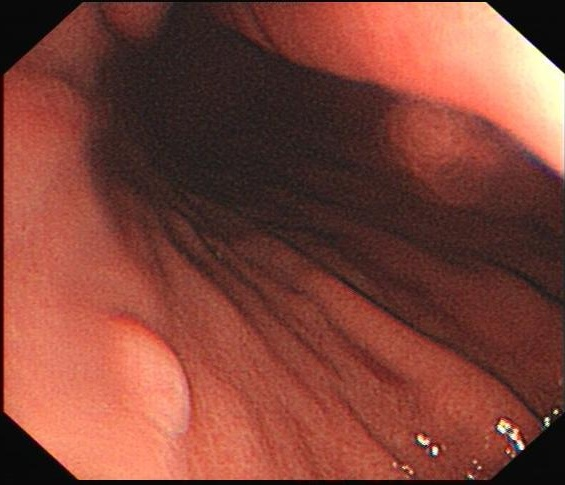Polyp: (110, 319, 196, 435)
